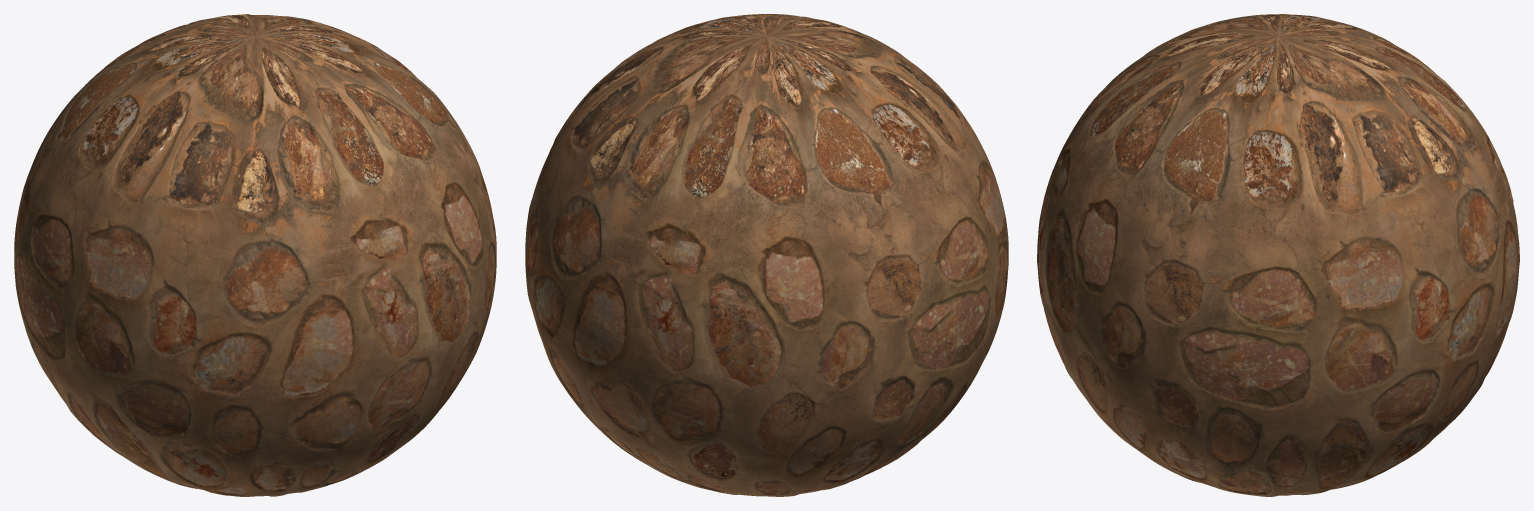
The model's file is rock_embedded_concrete_wall_2k.gltf.
3 renders of one model, left to right at view 1: azimuth 30°, elevation 25°; view 2: azimuth 150°, elevation 25°; view 3: azimuth 270°, elevation 25°, orthographic.
Visible parts, largest first — view 1: sphere_gltf; view 2: sphere_gltf; view 3: sphere_gltf.
Part boxes in pixels (<box>): sphere_gltf: <box>14,14,496,496</box>; sphere_gltf: <box>525,14,1008,496</box>; sphere_gltf: <box>1037,14,1519,496</box>.
Bounding box in the file's own units: 1.77 × 1.77 × 1.77.
1 material, 1 textured.
